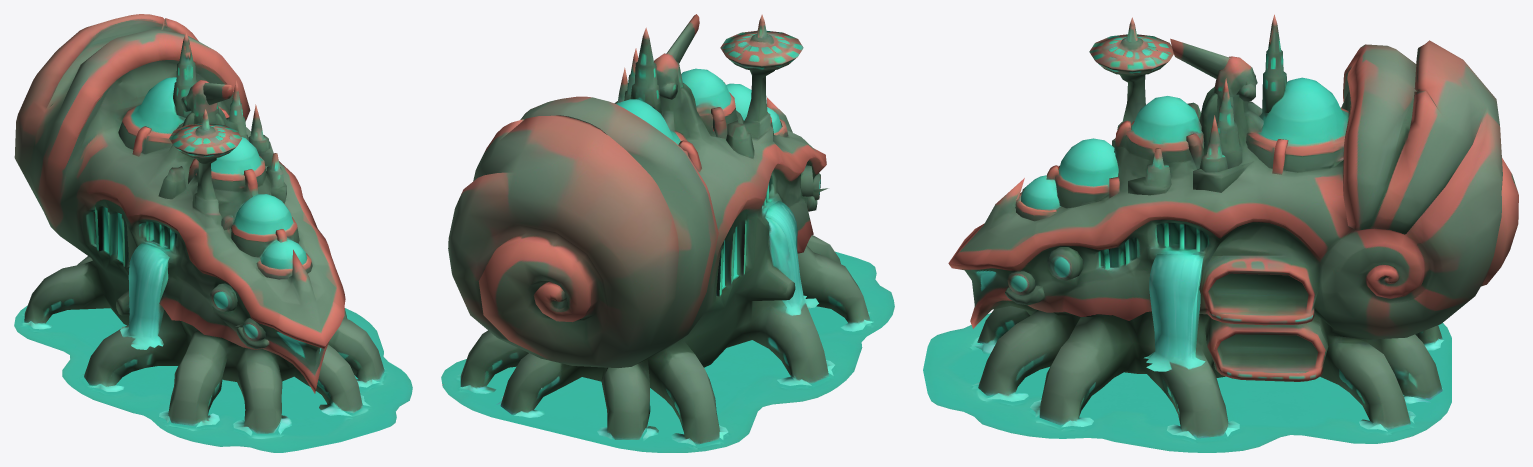
Rendered from water.grand_shell.fbx.
3 views of the same model, side by side, from view 1: azimuth 30°, elevation 25°; view 2: azimuth 150°, elevation 25°; view 3: azimuth 270°, elevation 25° (orthographic). The views are drawn at different scales.
Visible parts, largest first — view 1: water.grand_shell; view 2: water.grand_shell; view 3: water.grand_shell.
Part boxes in pixels (bbox=[...]): water.grand_shell: bbox=[14, 14, 412, 452]; water.grand_shell: bbox=[441, 14, 894, 452]; water.grand_shell: bbox=[923, 14, 1518, 452].
Size of the model in its own units: 0.658 by 0.6551 by 1.
1 material, 1 textured.
